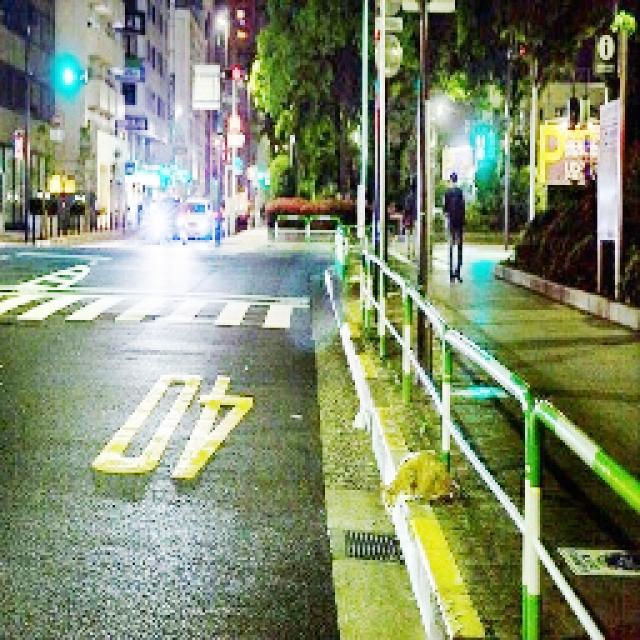cat: (377, 441, 462, 522)
